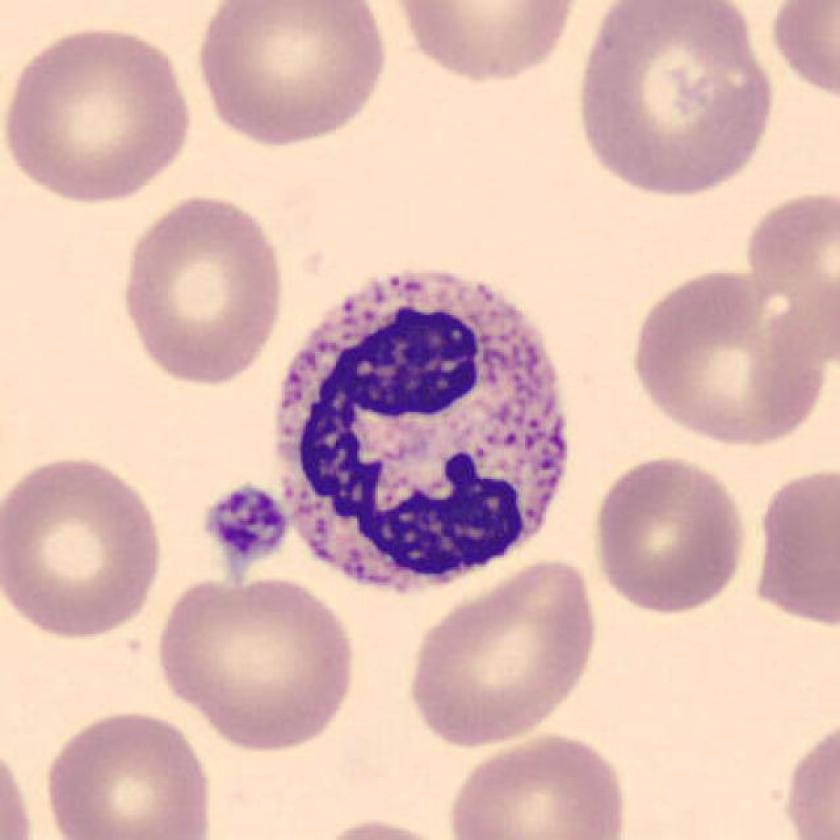neutrophil: (278, 273, 567, 594)
